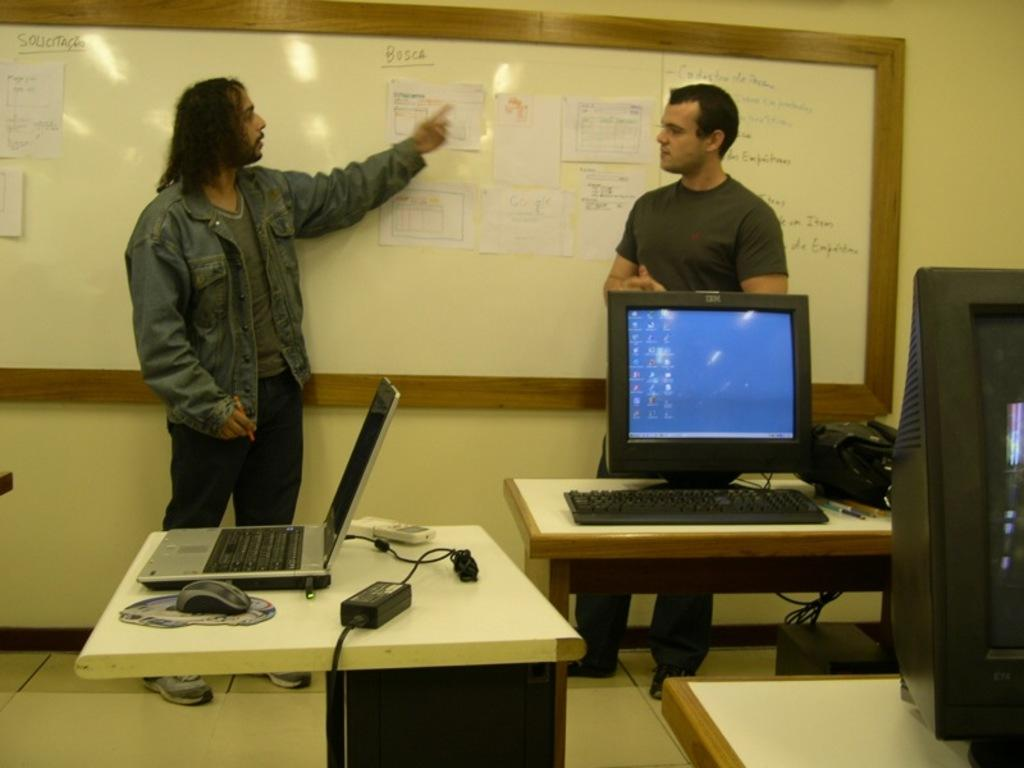Computer-keyboard: (562, 490, 829, 529), (197, 524, 301, 571)
Computer-monitor: (886, 264, 1023, 767), (599, 280, 827, 511)
